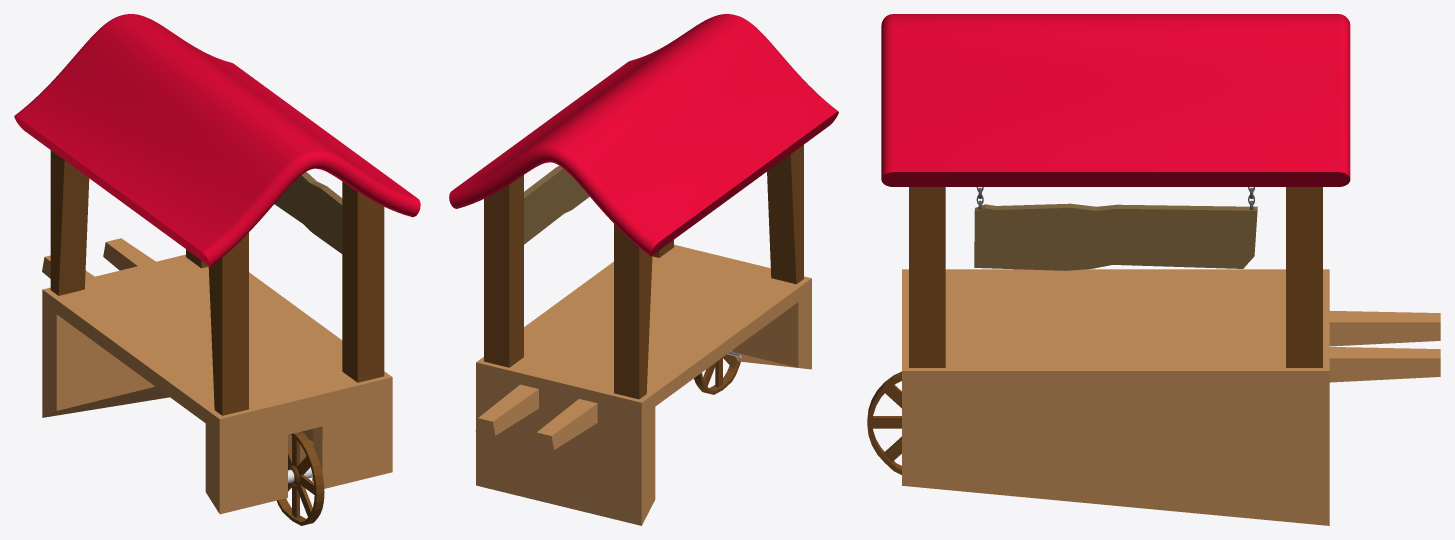
File: stall2_textured.fbx
3 views of the same model, side by side, from view 1: azimuth 30°, elevation 25°; view 2: azimuth 150°, elevation 25°; view 3: azimuth 270°, elevation 25° (orthographic). The views are drawn at different scales.
Visible parts, largest first — view 1: Cube.009_Cube.006, NurbsPath.001, Cube.011, Cube.009, Cube.012, Cube.013, Cube.014, Cube.006_Cube.010; view 2: Cube.009_Cube.006, NurbsPath.001, Cube.010, Cube.012, Cube.009, Cube.013, Cube.007_Cube.011, Cube.006_Cube.010, Cube.014; view 3: Cube.009_Cube.006, NurbsPath.001, Cube.013, Cube.010, Cube.011, Cube.006_Cube.010, Cube.007_Cube.011, Cube.014.
Part boxes in pixels (x1,y1,x2,y2): Cube.009_Cube.006: (42, 254, 392, 514); NurbsPath.001: (14, 14, 420, 266); Cube.011: (342, 181, 384, 382); Cube.009: (208, 232, 248, 415); Cube.012: (50, 150, 89, 295); Cube.013: (274, 172, 342, 253); Cube.014: (277, 431, 324, 525); Cube.006_Cube.010: (103, 238, 155, 270); Cube.009_Cube.006: (476, 244, 811, 525); NurbsPath.001: (449, 14, 838, 256); Cube.010: (484, 175, 523, 367); Cube.012: (614, 224, 652, 399); Cube.009: (767, 145, 803, 284); Cube.013: (524, 166, 589, 244); Cube.007_Cube.011: (534, 399, 597, 450); Cube.006_Cube.010: (475, 384, 539, 435); Cube.014: (694, 354, 740, 394); Cube.009_Cube.006: (902, 269, 1329, 525); NurbsPath.001: (881, 14, 1350, 186); Cube.013: (974, 203, 1257, 270); Cube.010: (1286, 187, 1322, 367); Cube.011: (909, 187, 945, 367); Cube.006_Cube.010: (1329, 347, 1440, 382); Cube.007_Cube.011: (1329, 311, 1440, 346); Cube.014: (867, 371, 901, 474).
Bounding box in the file's own units: 509 × 850 × 966.
